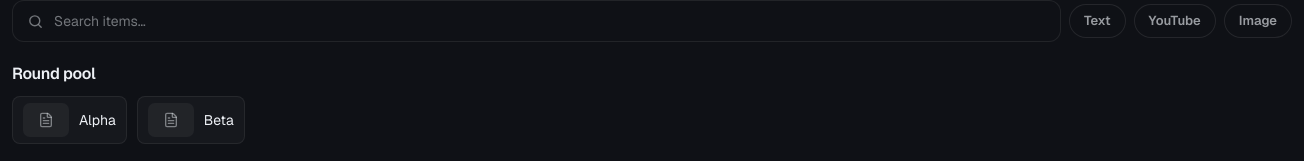
Test case: PackContentsPreview › search and type filter › works in round-scoped mode too
The image size is (1304, 161).
Type "alpha" into the search field named "Search pack items" at (550, 21), box top-left (54, 11), bottom-right (1046, 31)
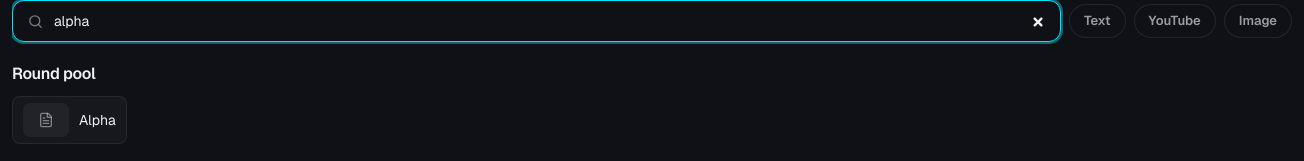
Expected: the text "Alpha" is shown, top-left (79, 110), bottom-right (116, 130)
Expected: the text "Beta" is gone
